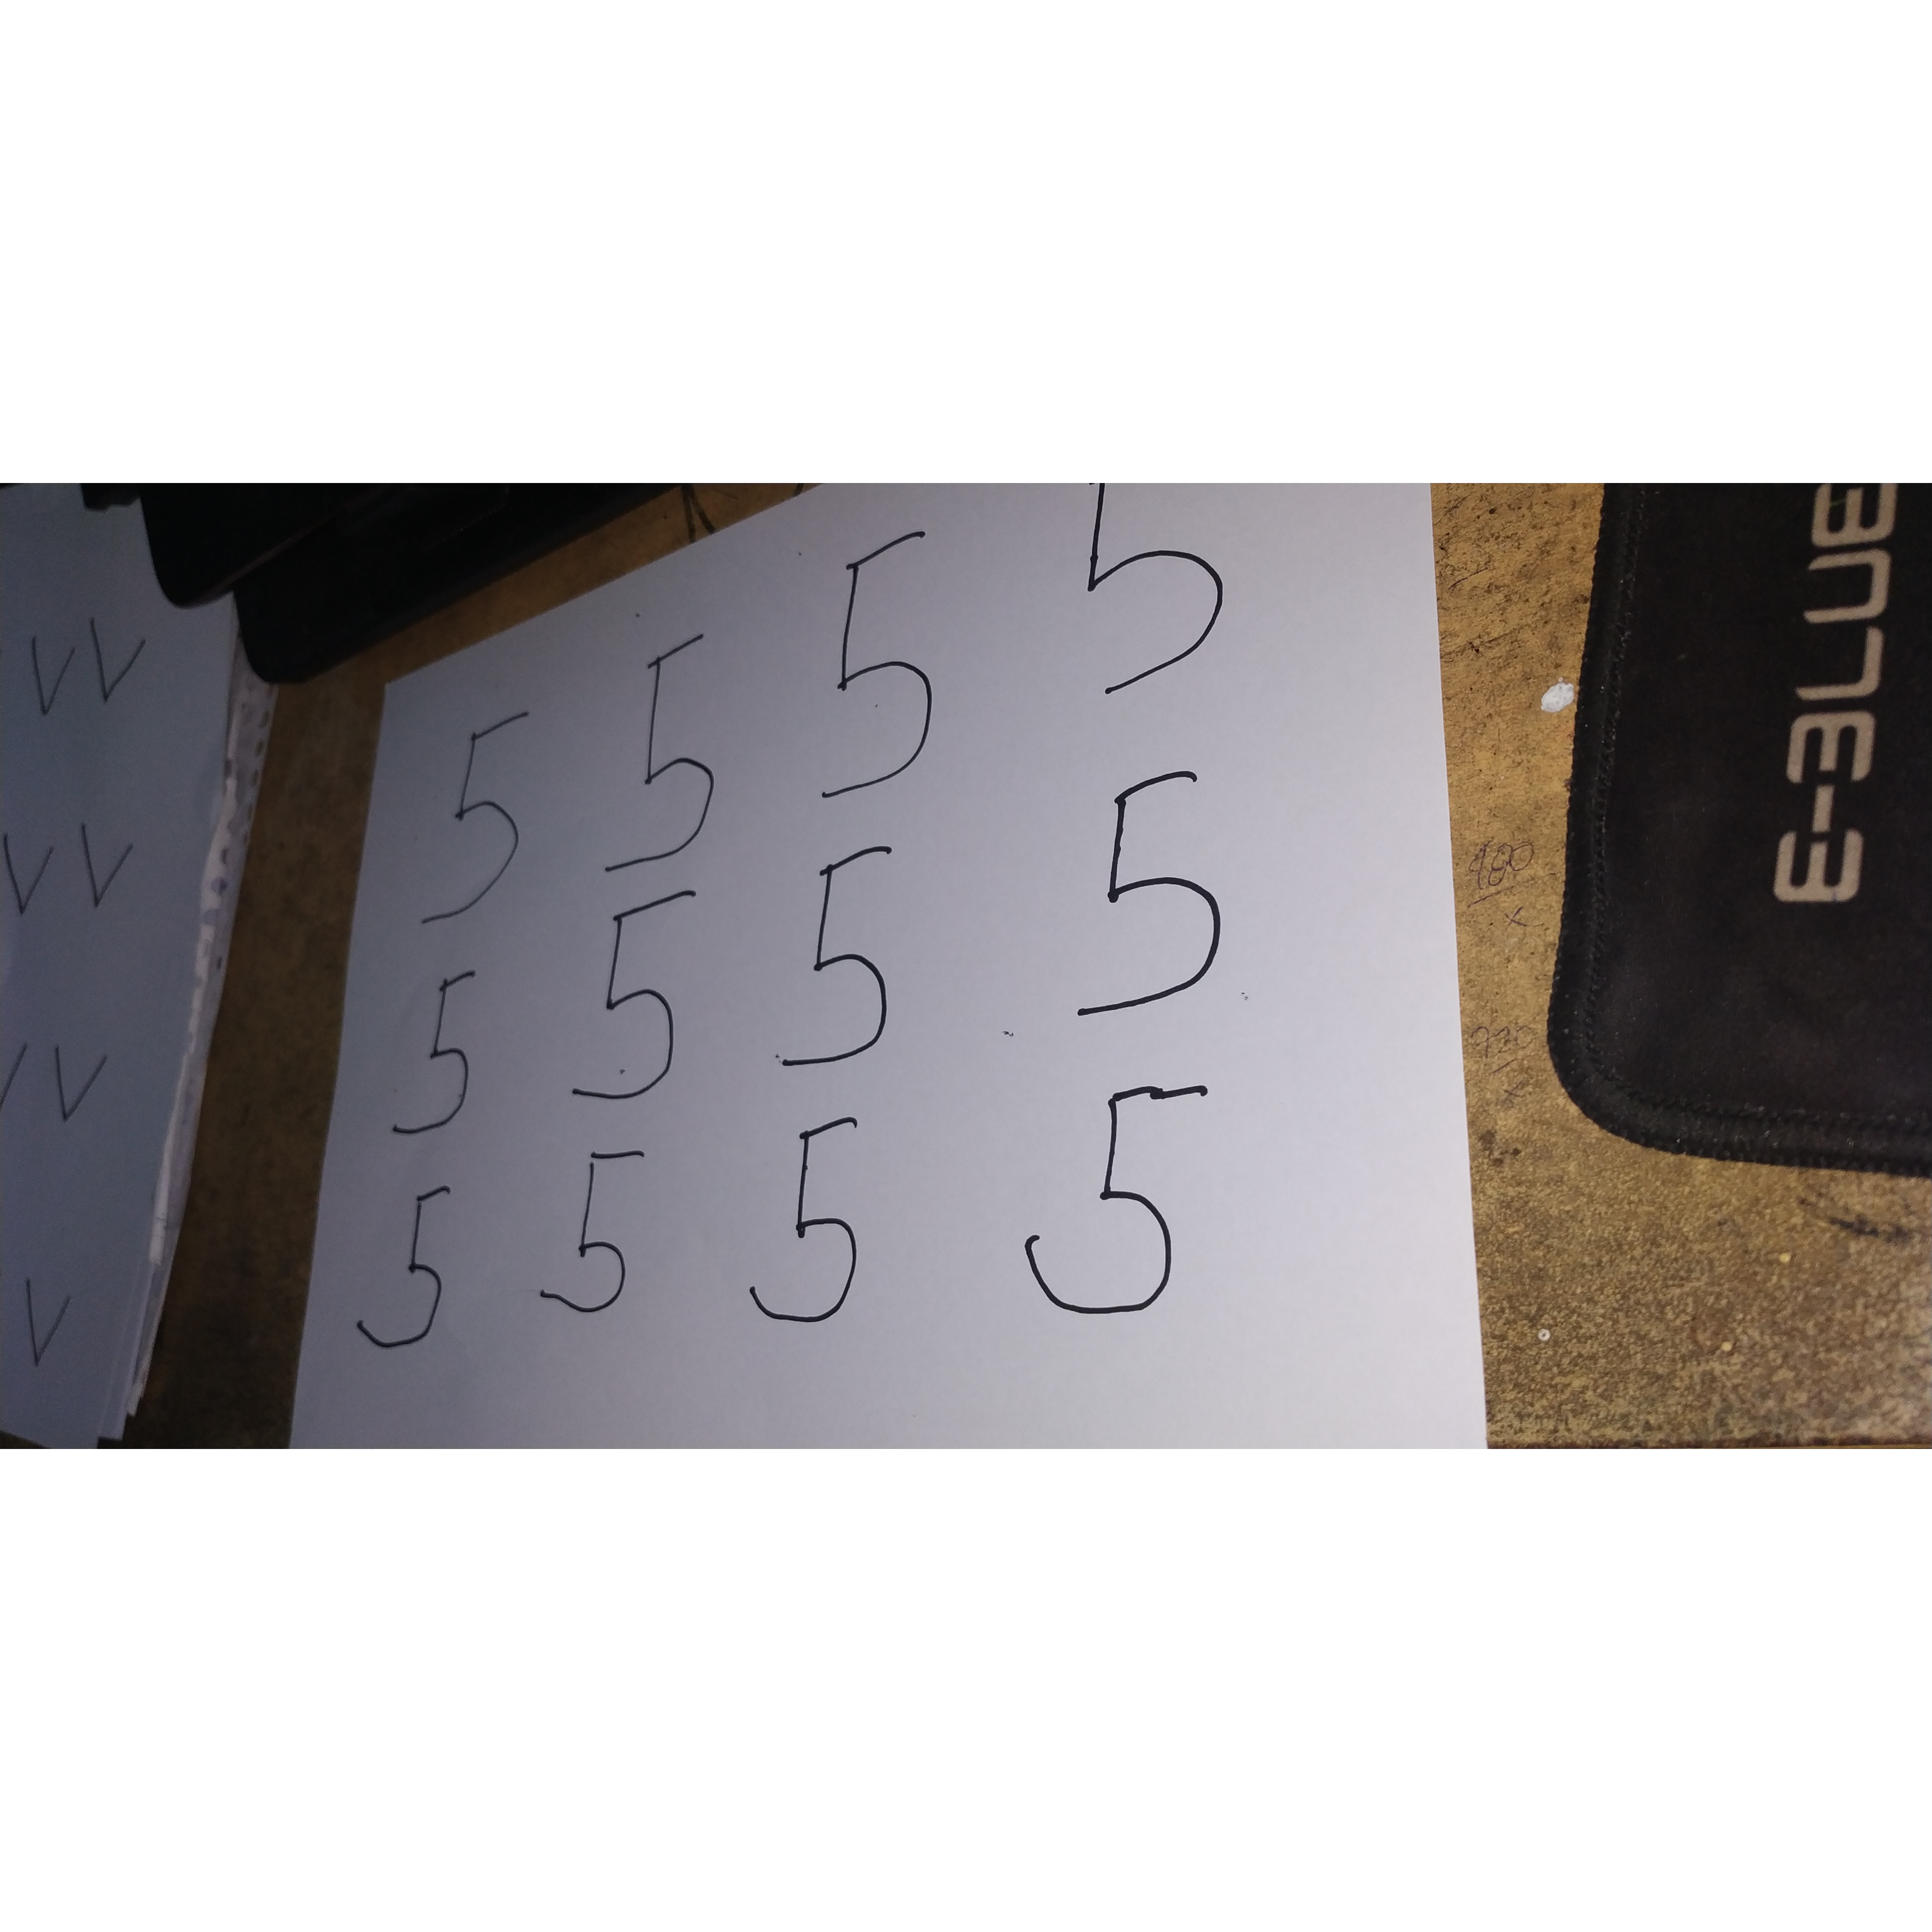num5: (780, 521, 988, 819), (1011, 1069, 1240, 1331), (1051, 483, 1288, 701), (1067, 758, 1248, 1027), (765, 838, 938, 1083), (587, 626, 753, 878), (564, 884, 729, 1119), (324, 1170, 505, 1365), (742, 1109, 887, 1342), (398, 716, 557, 926), (522, 1138, 698, 1327), (379, 964, 498, 1155)
